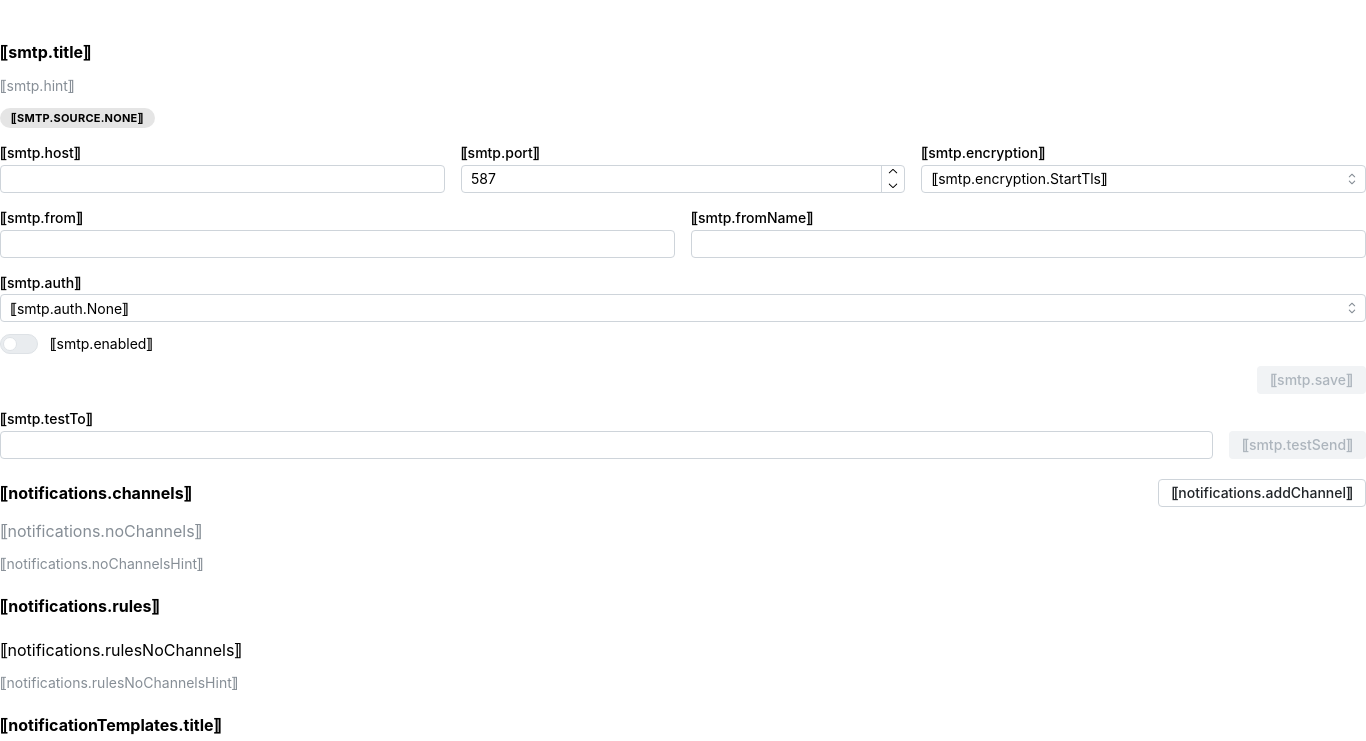
NotificationsPage: ChannelsPanel і RulesMatrixPanel діляться одним кешем каналів › новостворений канал одразу видно в RulesMatrixPanel, без перемонтування сторінки
Expected: the text "⟦notifications.noChannels⟧" is shown, [0,521,202,541]
Expected: the text "⟦notifications.rulesNoChannels⟧" is shown, [0,640,242,660]
Click the button "⟦notifications.addChannel⟧" at [1262, 493], box [1158,479,1365,507]
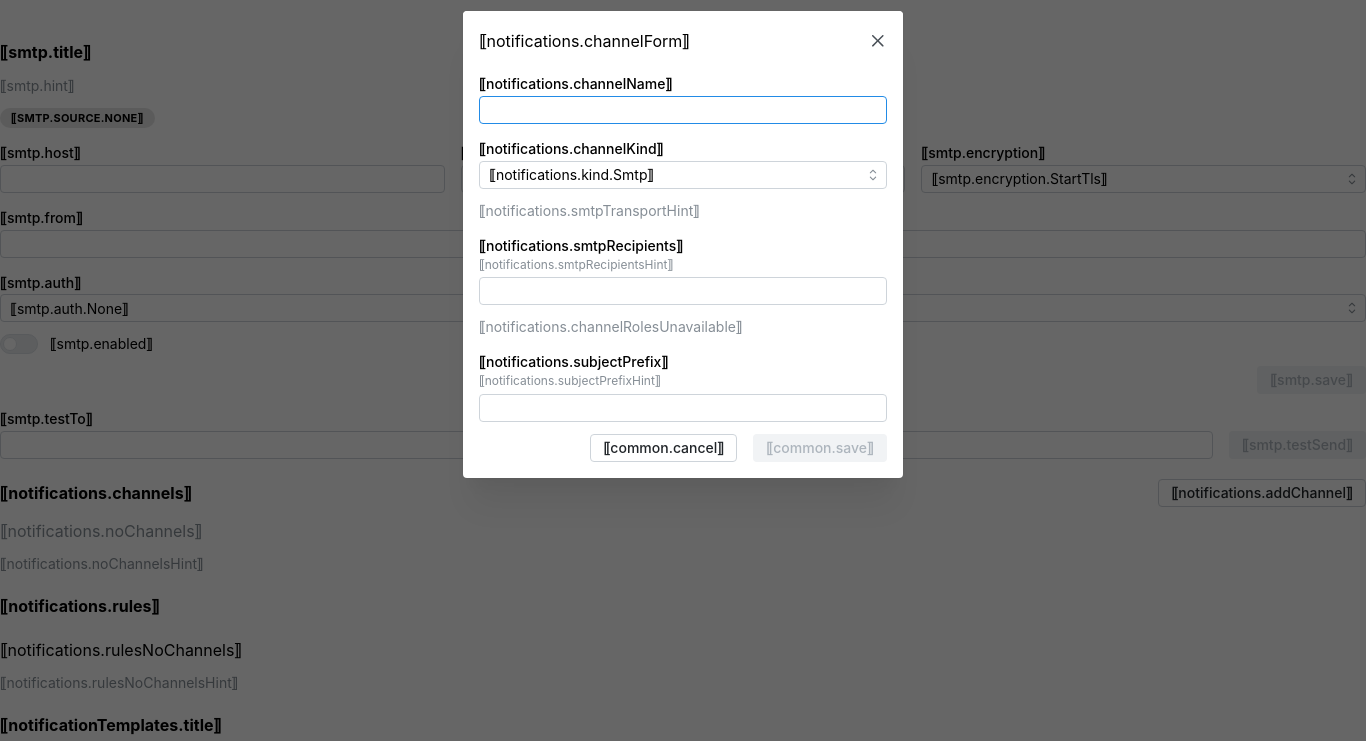
Type "Ops mailbox" into the field labelled "⟦notifications.channelName⟧" at [683, 110], box [479,96,887,124]
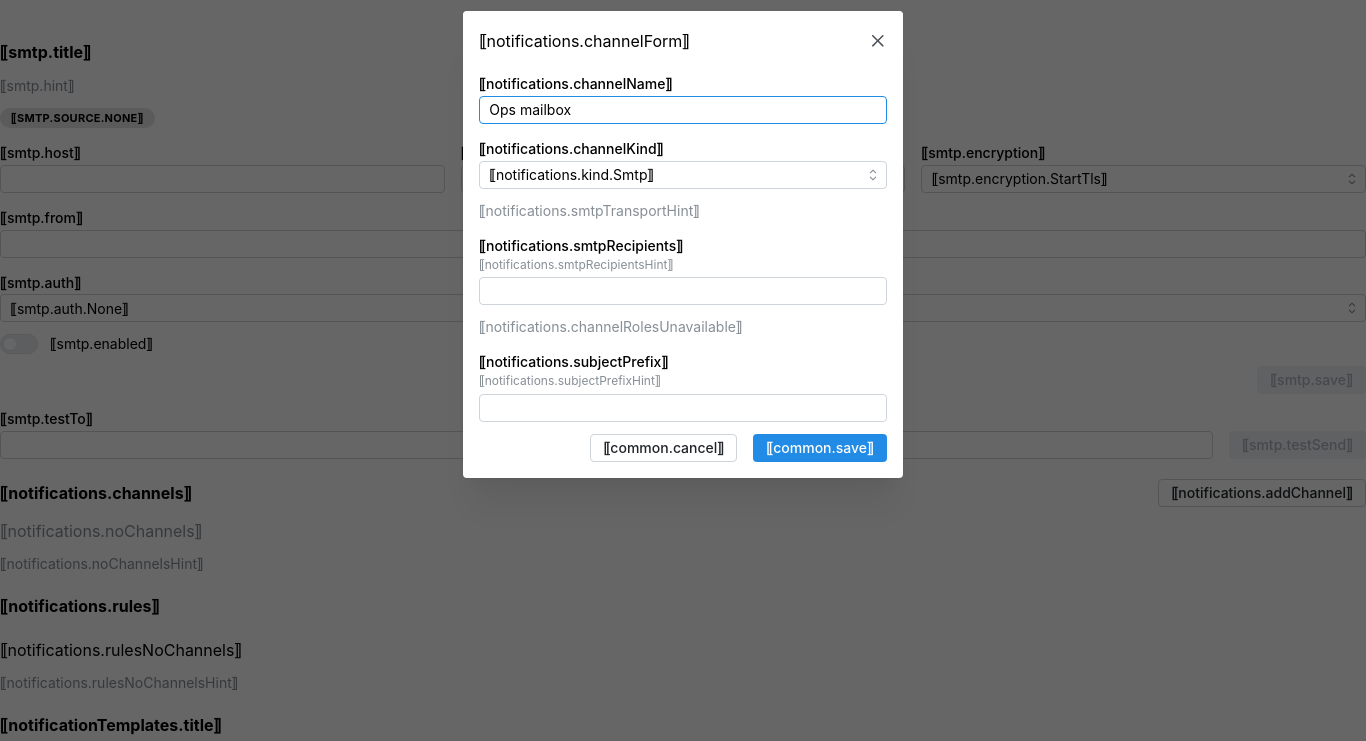
Click the button "⟦common.save⟧" at [820, 448], box [753,434,887,462]
(page scrolled)
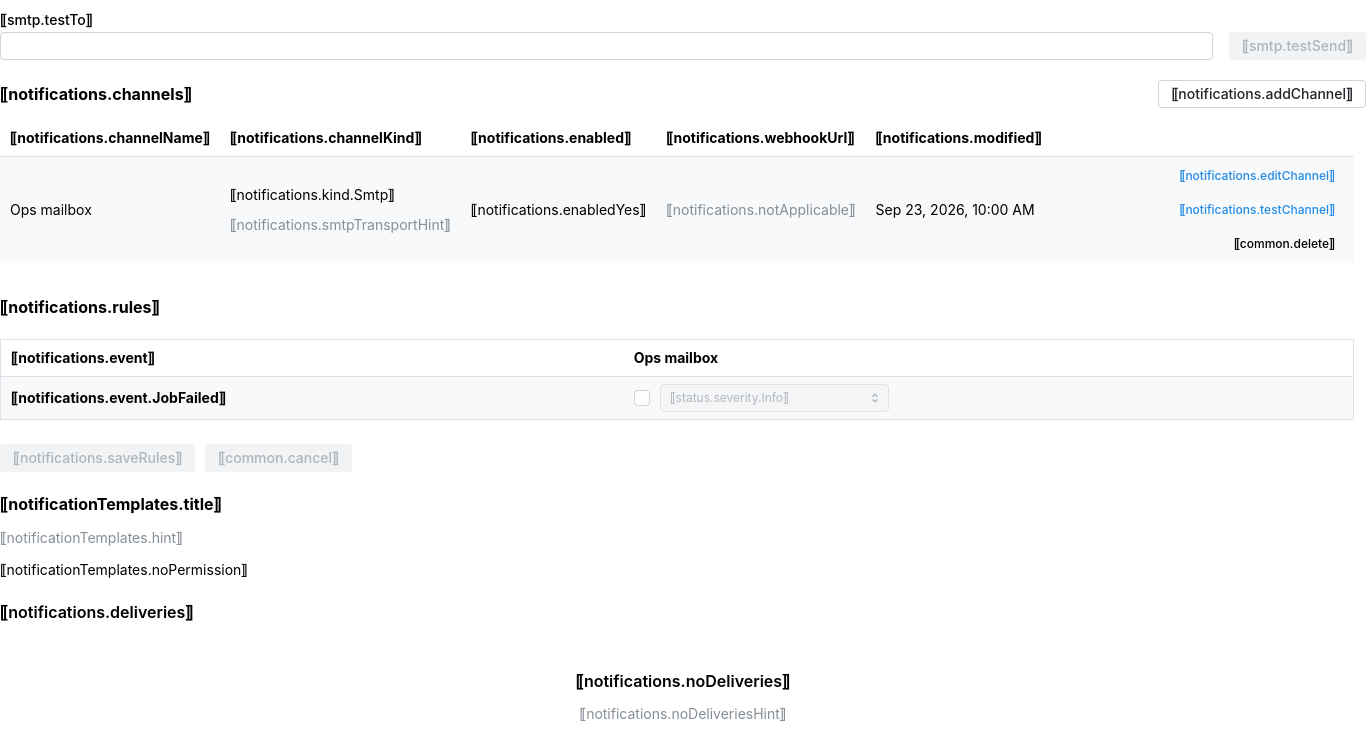
Expected: the cell "Ops mailbox" is shown, [0,156,220,263]
Expected: the text "⟦notifications.noChannels⟧" is gone
Expected: the text "⟦notifications.rulesNoChannels⟧" is gone
